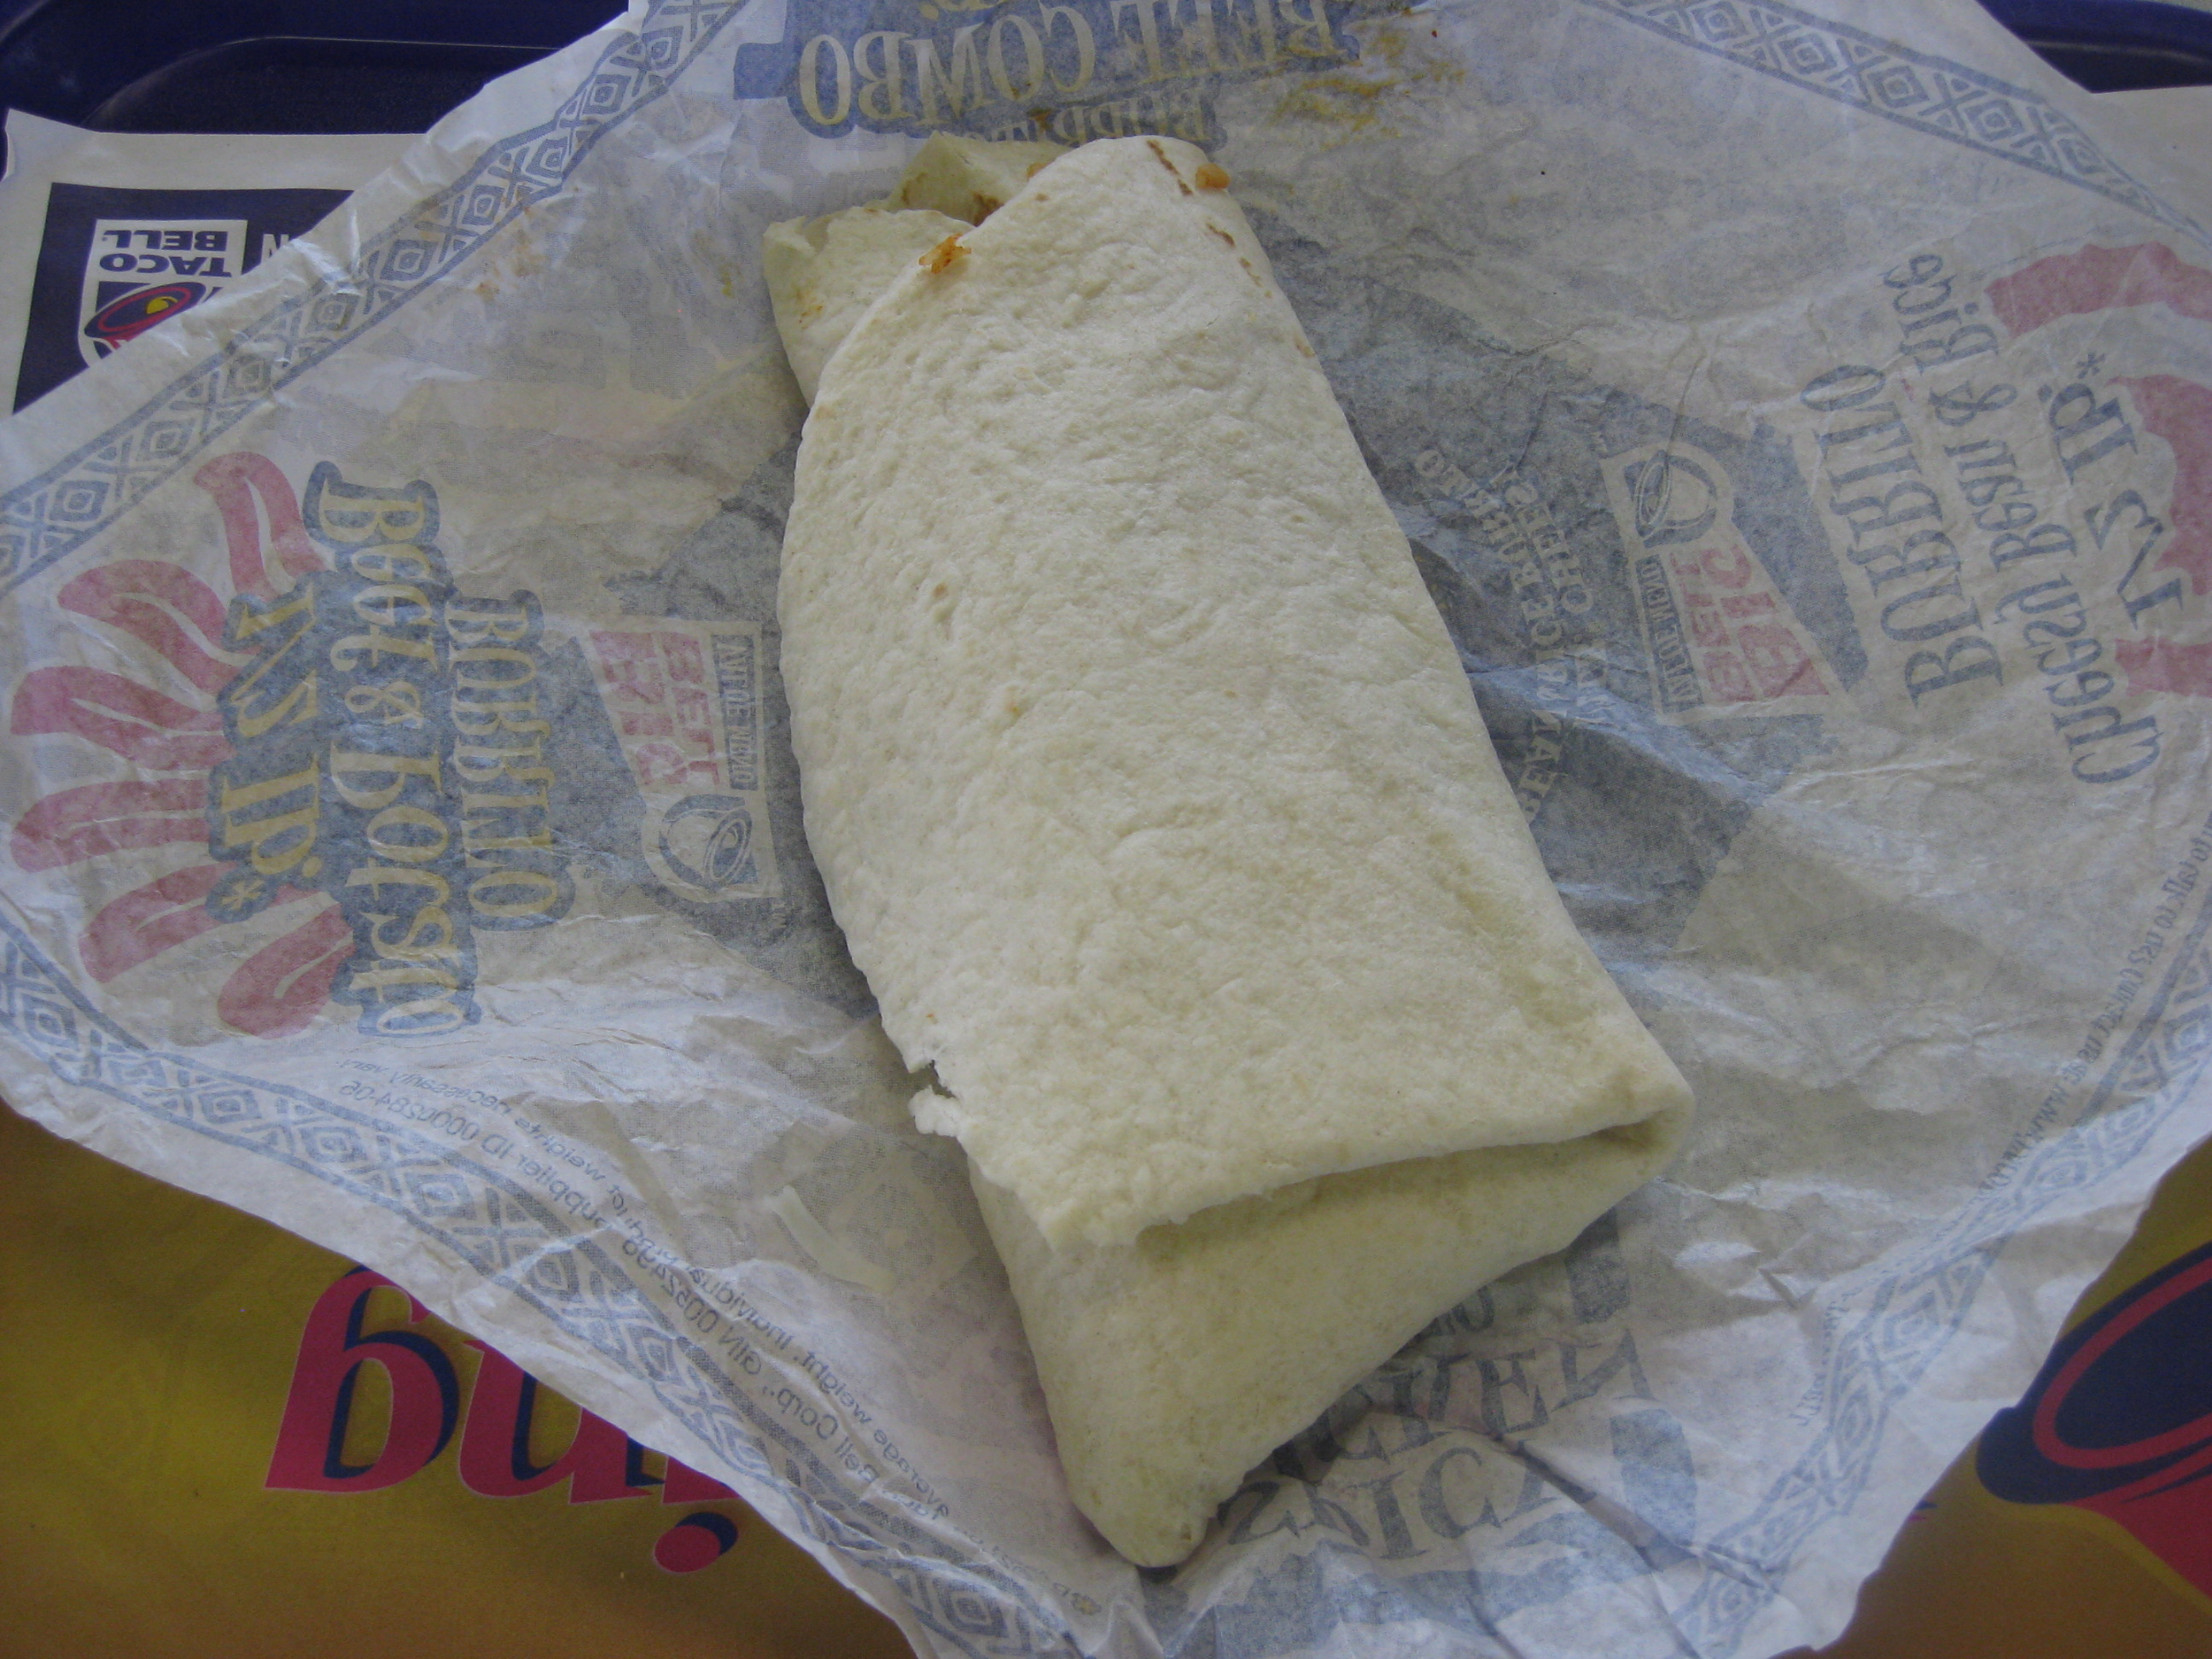burrito: (686, 89, 1802, 1580)
